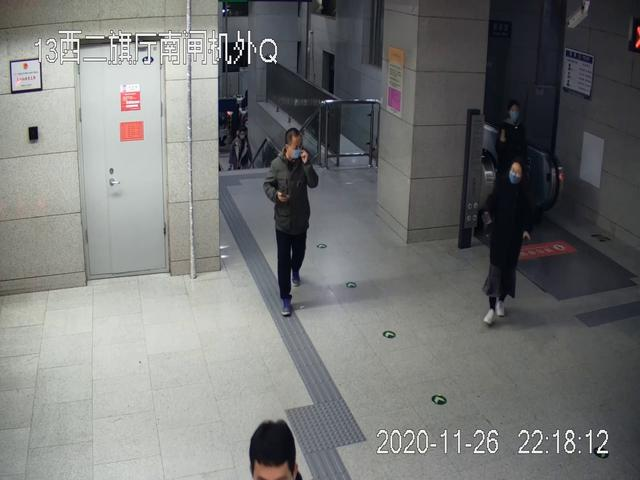person: (262, 128, 318, 317), (481, 158, 530, 327)
